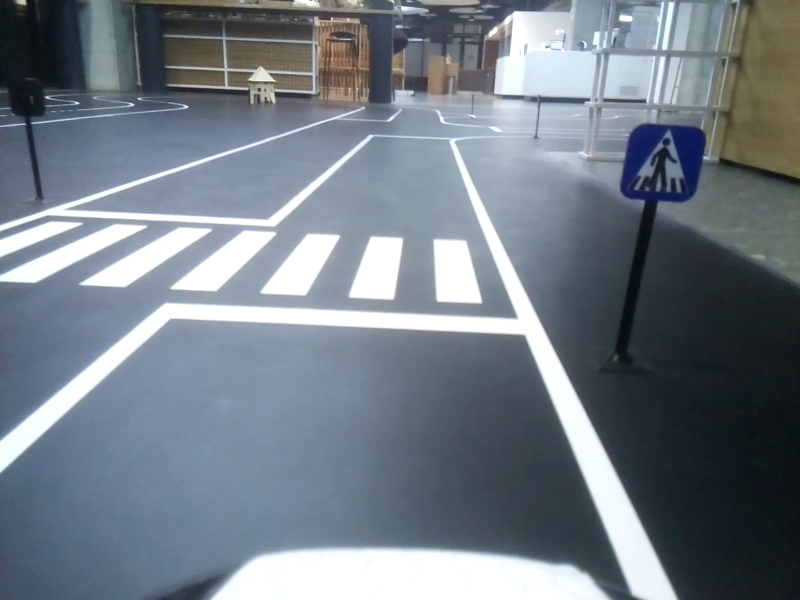pedestrian: (622, 125, 701, 198)
